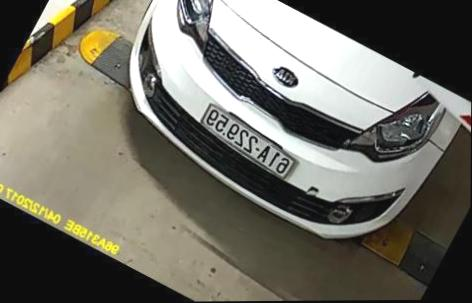License_Plate: (205, 104, 299, 180)
